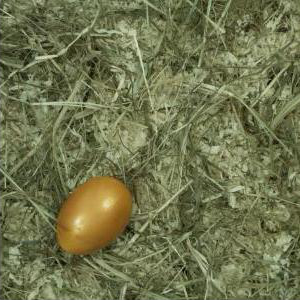egg: (56, 175, 134, 255)
